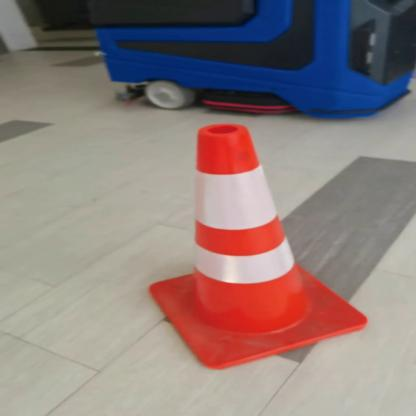cone: (134, 115, 375, 369)
